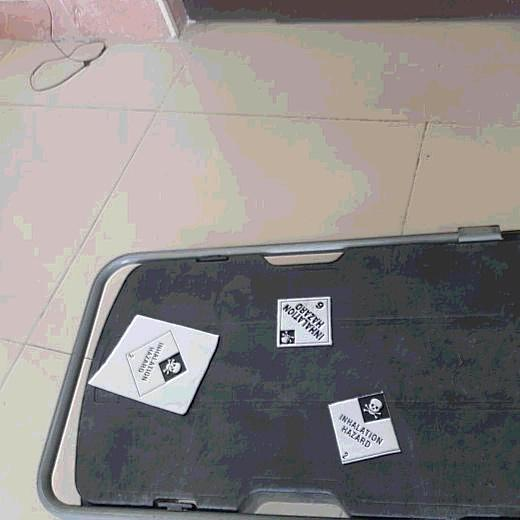poison: (328, 391, 399, 462), (127, 332, 188, 393), (278, 295, 328, 345)
